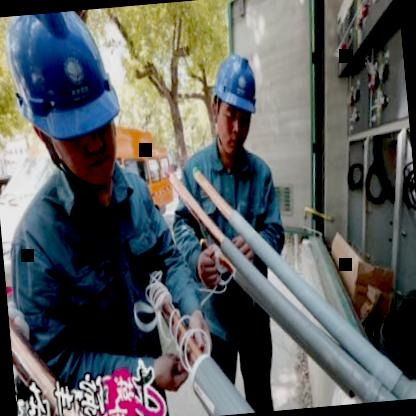helmet: (3, 7, 139, 200), (204, 43, 267, 162)
